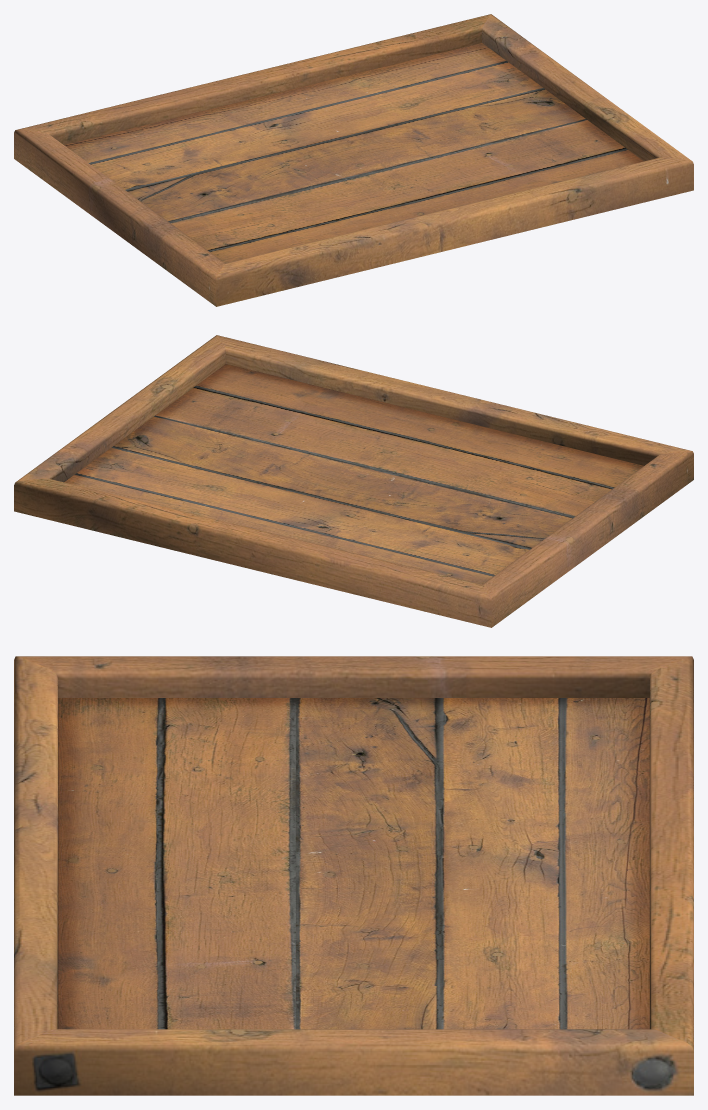
File: Sign.fbx
3 renders of one model, top to bottom at view 1: azimuth 30°, elevation 25°; view 2: azimuth 150°, elevation 25°; view 3: azimuth 270°, elevation 25°, orthographic. The views are drawn at different scales.
Parts seen in each view (by area): view 1: sign; view 2: sign; view 3: sign.
Boxes of the visible parts, x1,y1,x2,y2 form: sign: (14,14,693,306); sign: (14,335,693,627); sign: (14,656,693,1095).
Bounding box in the file's own units: 141 × 104 × 8.4.
Materials: 1 (1 with a texture image).
